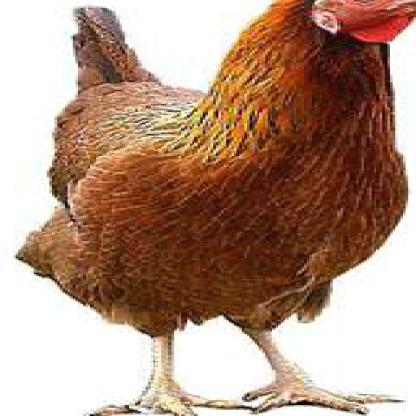chicken: (12, 0, 416, 415)
